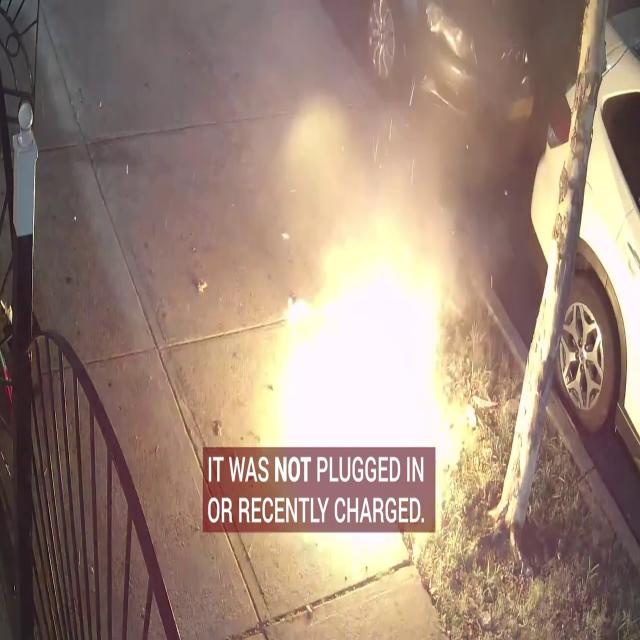Fire: (236, 160, 483, 624)
